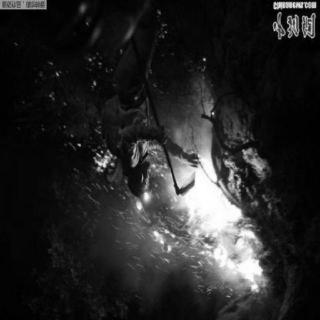Fire: (145, 155, 269, 293), (86, 142, 116, 195)
